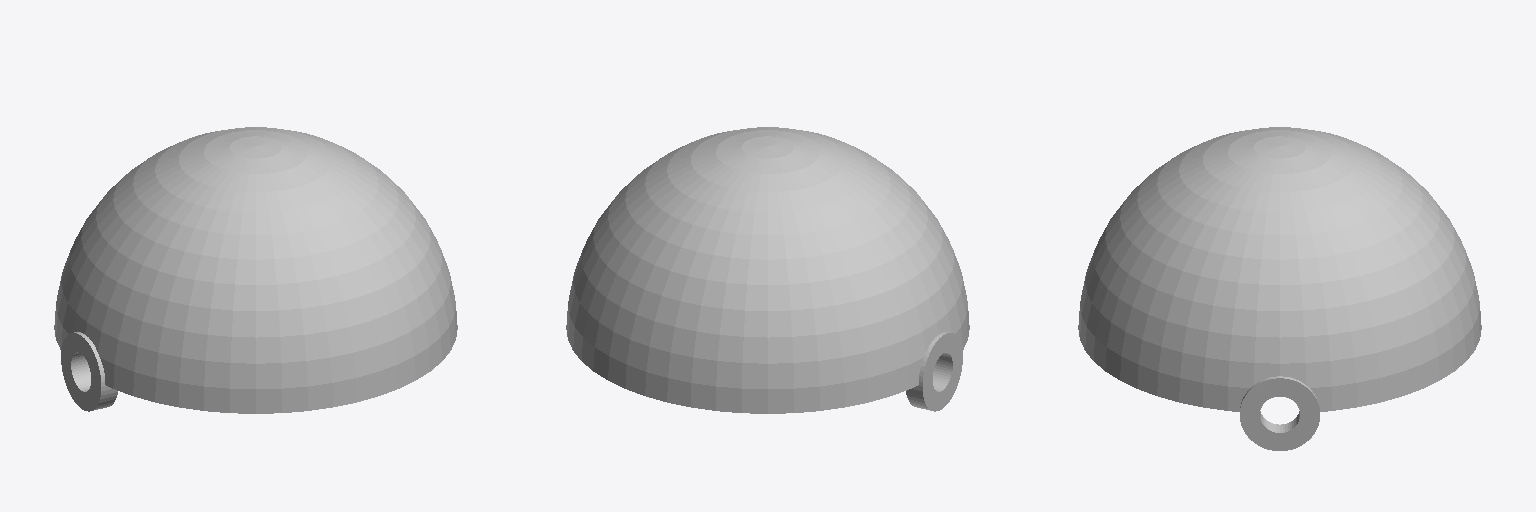
Rendered from AC_EYE_UP_v001.obj.
3 views of the same model, side by side, from view 1: azimuth 30°, elevation 25°; view 2: azimuth 150°, elevation 25°; view 3: azimuth 270°, elevation 25° (orthographic).
Visible parts, largest first — view 1: Mesh2 GROUP13 GROUP11 Model; view 2: Mesh2 GROUP13 GROUP11 Model; view 3: Mesh2 GROUP13 GROUP11 Model.
Boxes of the visible parts, x1=… form: Mesh2 GROUP13 GROUP11 Model: x1=54, y1=127, x2=457, y2=413; Mesh2 GROUP13 GROUP11 Model: x1=566, y1=127, x2=969, y2=413; Mesh2 GROUP13 GROUP11 Model: x1=1078, y1=127, x2=1481, y2=450.
Size of the model in its own units: 30 by 18.07 by 30.